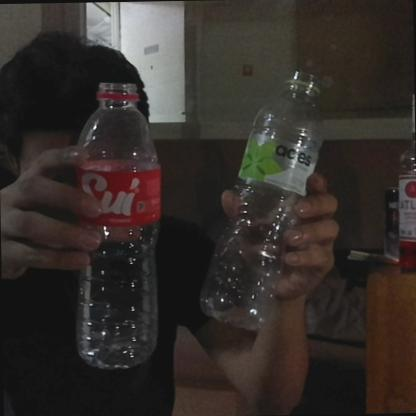plastic_bottles: (194, 69, 334, 332), (67, 79, 158, 374)
